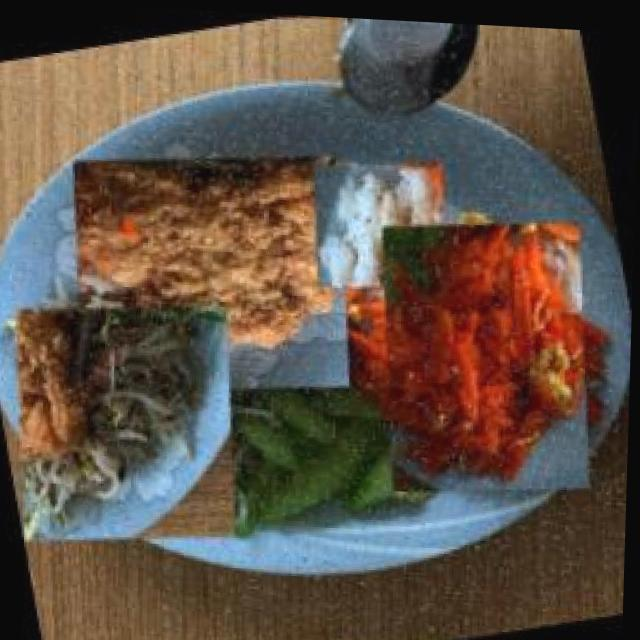carrot_eggs: (326, 188, 636, 513)
fried_chicken: (35, 102, 391, 439)
mung_bean_sprouts: (0, 265, 276, 571)
rice: (296, 132, 470, 309)
